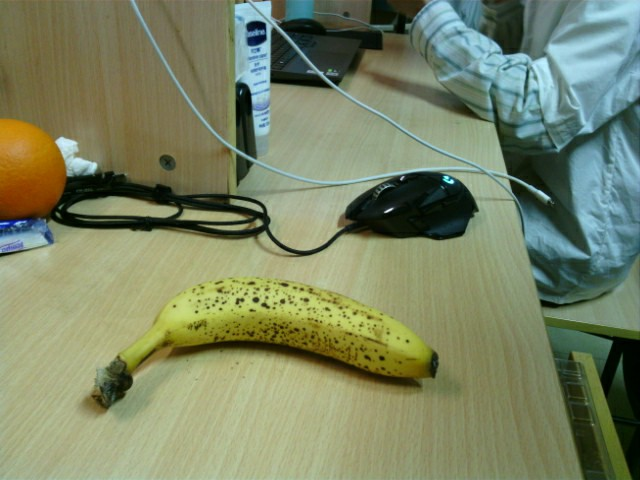normal_banana: (92, 277, 440, 413)
normal_orange: (1, 119, 66, 214)
